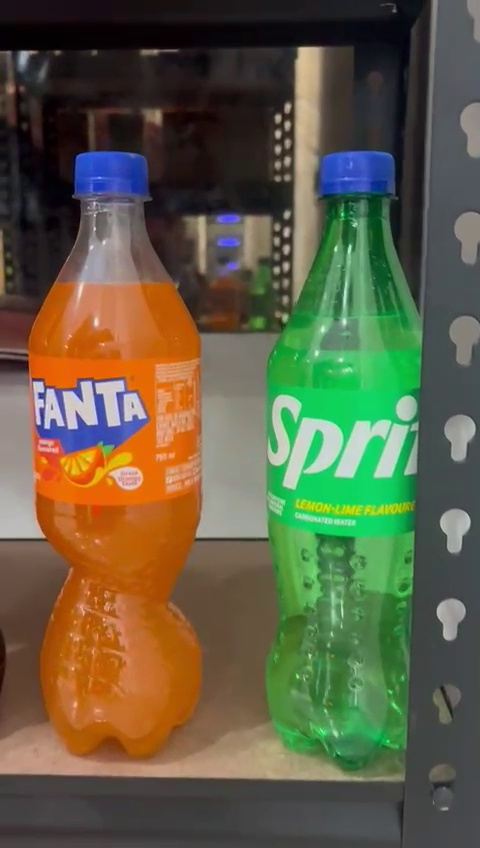Fanta: (14, 140, 218, 751)
Sprit: (248, 147, 450, 770)
